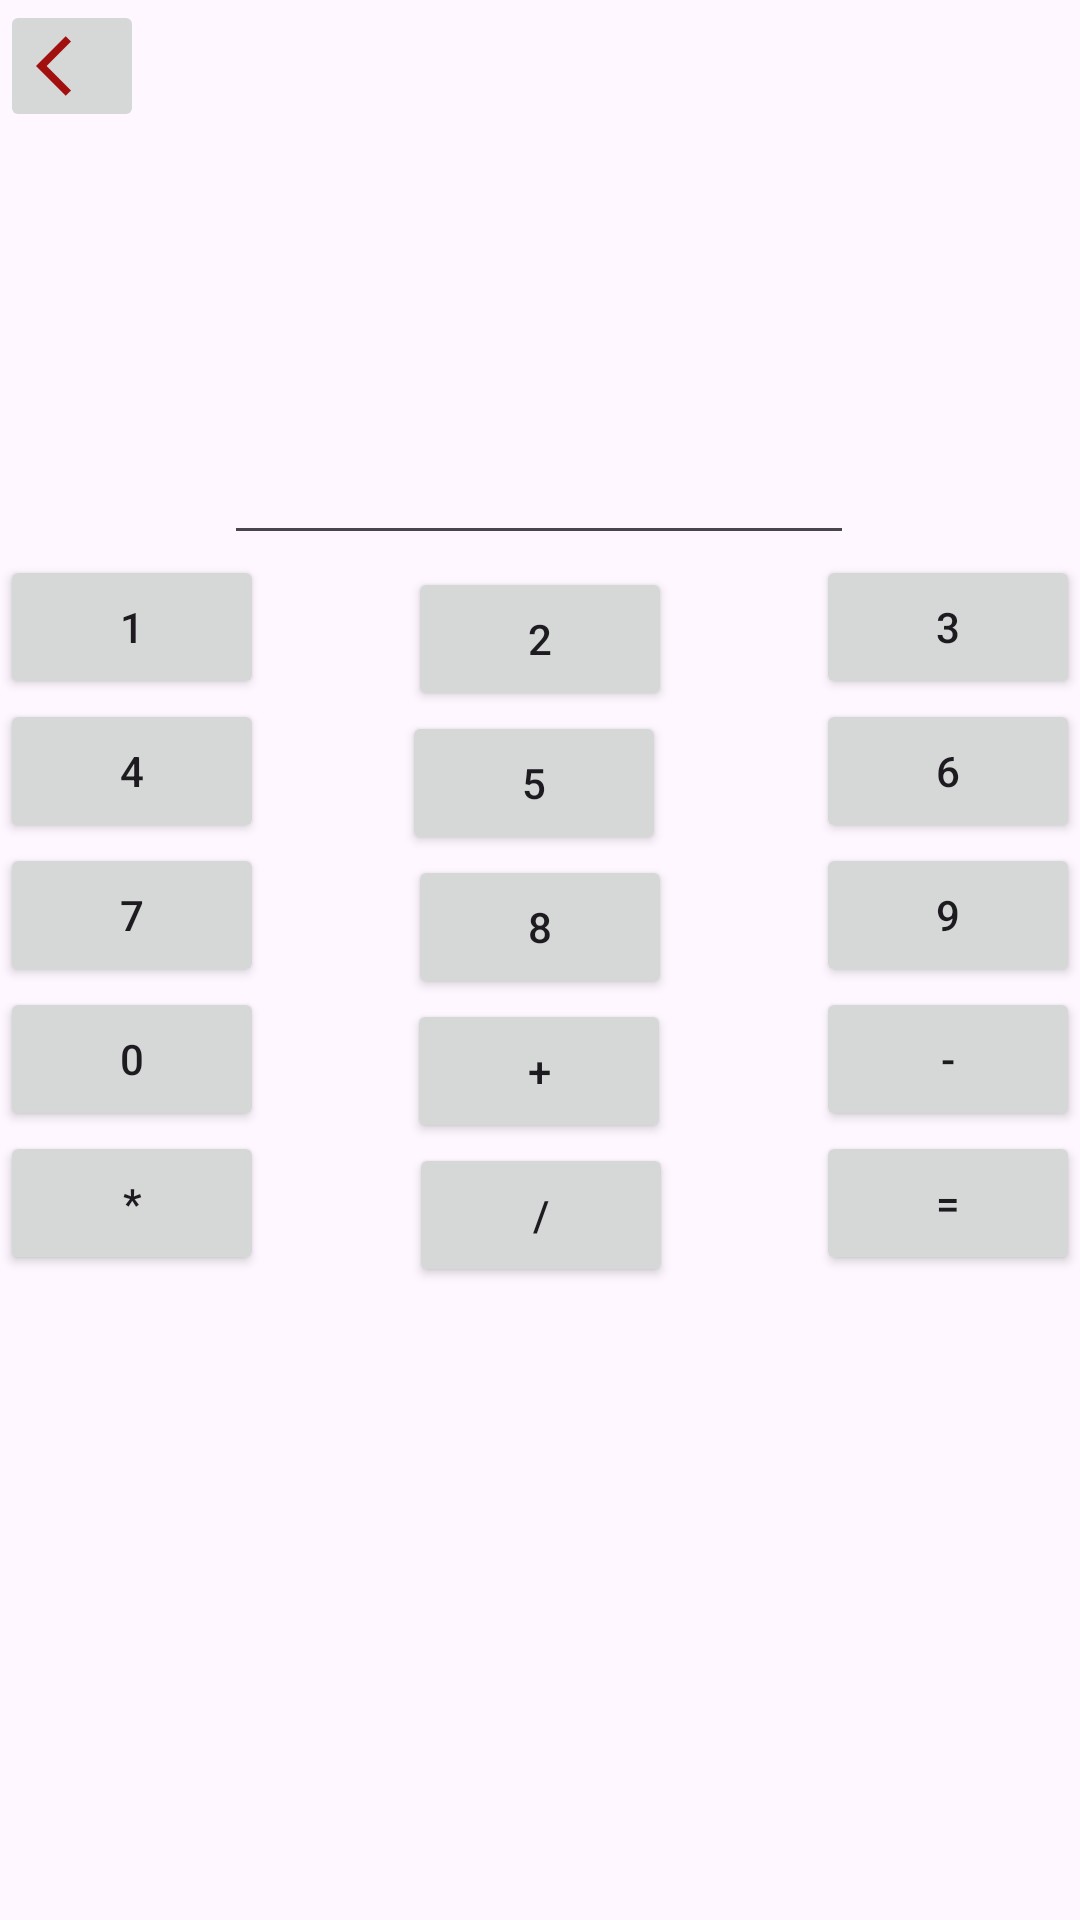

Icons on this 1080 x 1920 Android screen, each with the point to tap as point (x, y):
arrow back: point (72, 66)
